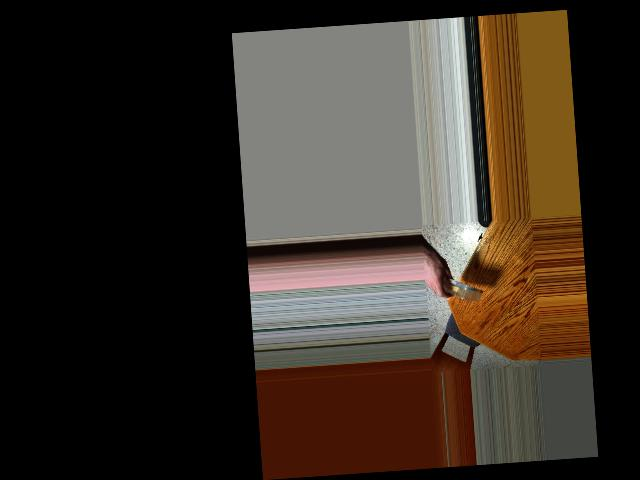cheese: (437, 276, 485, 304)
